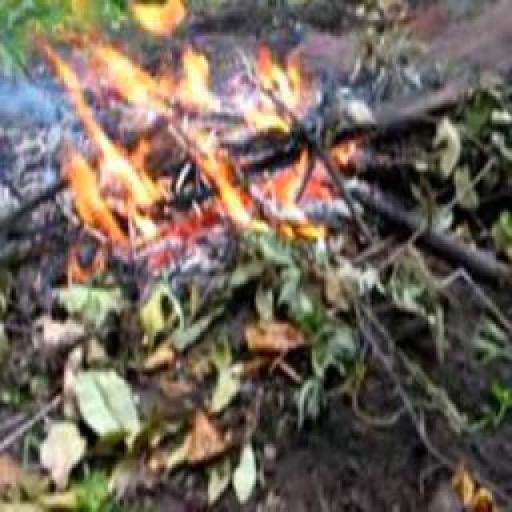smoke: (34, 48, 218, 238), (226, 150, 324, 240), (240, 46, 294, 158)
